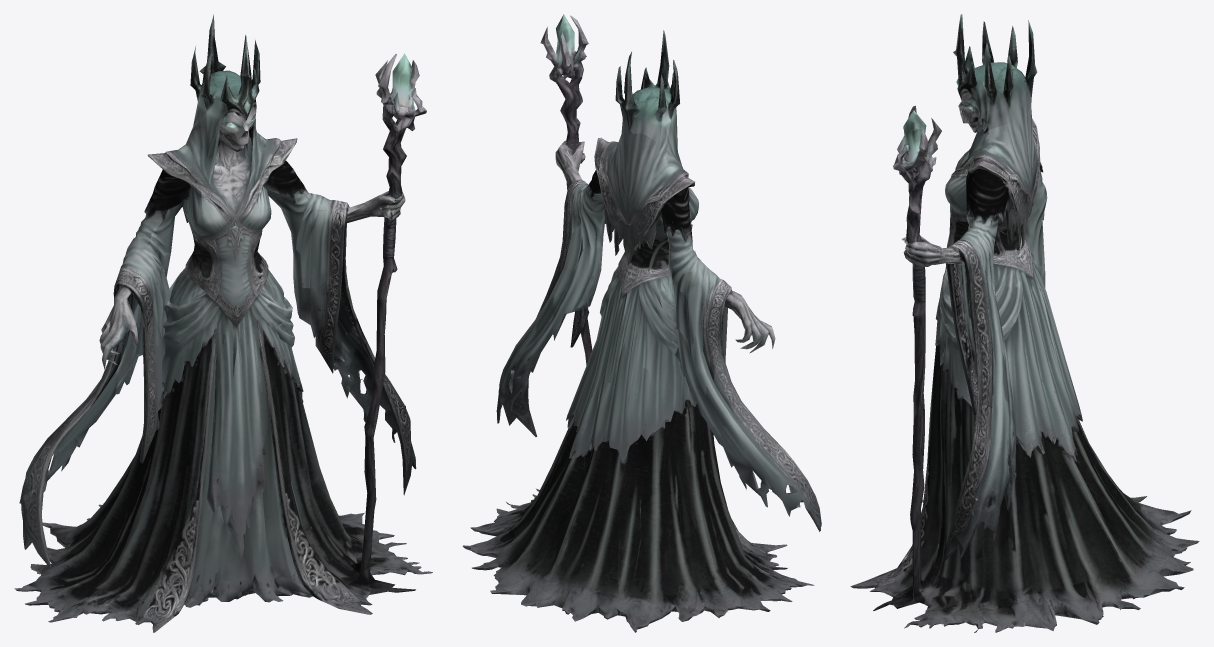
File: wraith.glb
3 views of the same model, side by side, from view 1: azimuth 30°, elevation 25°; view 2: azimuth 150°, elevation 25°; view 3: azimuth 270°, elevation 25° (orthographic). The views are drawn at different scales.
Visible parts, largest first — view 1: Body_Baked.099, ArmLowerL_Baked.026, ArmUpperL_Baked.026, Head_Baked.064, ArmLowerR_Baked.026, ArmUpperR_Baked.026; view 2: Body_Baked.099, Cape_Baked.045, ArmUpperL_Baked.026, ArmLowerL_Baked.026, ArmLowerR_Baked.026, Head_Baked.064, ArmUpperR_Baked.026; view 3: Body_Baked.099, ArmUpperL_Baked.026, ArmLowerL_Baked.026, Cape_Baked.045, Head_Baked.064, ArmLowerR_Baked.026, ArmUpperR_Baked.026.
Part boxes in pixels (x1,y1,x2,y2): Body_Baked.099: [14, 95, 432, 632]; ArmLowerL_Baked.026: [296, 53, 426, 594]; ArmUpperL_Baked.026: [267, 138, 415, 457]; Head_Baked.064: [190, 14, 260, 157]; ArmLowerR_Baked.026: [99, 237, 170, 369]; ArmUpperR_Baked.026: [135, 153, 191, 256]; Body_Baked.099: [462, 115, 821, 632]; Cape_Baked.045: [541, 315, 679, 593]; ArmUpperL_Baked.026: [496, 137, 609, 425]; ArmLowerL_Baked.026: [517, 14, 592, 436]; ArmLowerR_Baked.026: [669, 261, 775, 381]; Head_Baked.064: [615, 30, 679, 155]; ArmUpperR_Baked.026: [648, 179, 707, 285]; Body_Baked.099: [850, 100, 1199, 632]; ArmUpperL_Baked.026: [957, 157, 1018, 557]; ArmLowerL_Baked.026: [873, 105, 994, 610]; Cape_Baked.045: [1042, 295, 1145, 544]; Head_Baked.064: [953, 14, 1037, 134]; ArmLowerR_Baked.026: [1025, 208, 1044, 275]; ArmUpperR_Baked.026: [1028, 118, 1047, 219].
Bounding box in the file's own units: 1.29 × 1.87 × 1.09.
Materials: 1 (1 with a texture image).
